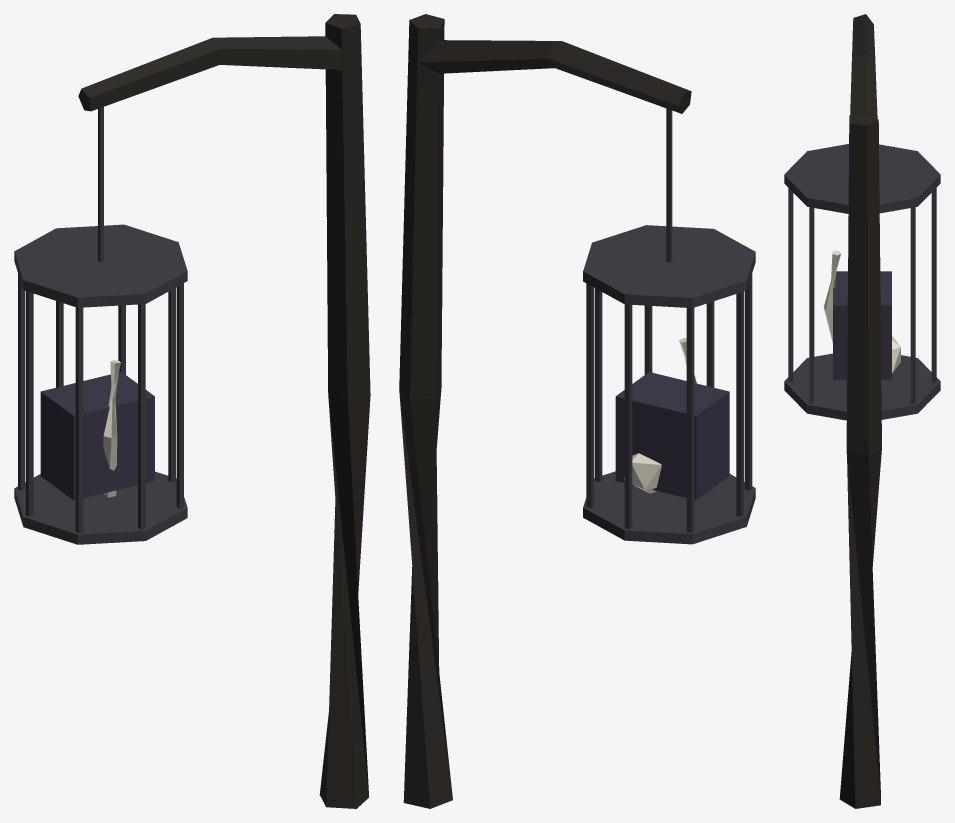
Rendered from hangcage_lo.glb.
3 views of the same model, side by side, from view 1: azimuth 30°, elevation 25°; view 2: azimuth 150°, elevation 25°; view 3: azimuth 270°, elevation 25° (orthographic). The views are drawn at different scales.
Visible parts, largest first — view 1: cage; view 2: cage; view 3: cage.
Part boxes in pixels (x1,y1,x2,y2): cage: [14, 14, 370, 808]; cage: [399, 14, 755, 808]; cage: [784, 14, 940, 808].
Size of the model in its own units: 1.07 by 2.34 by 0.48.
